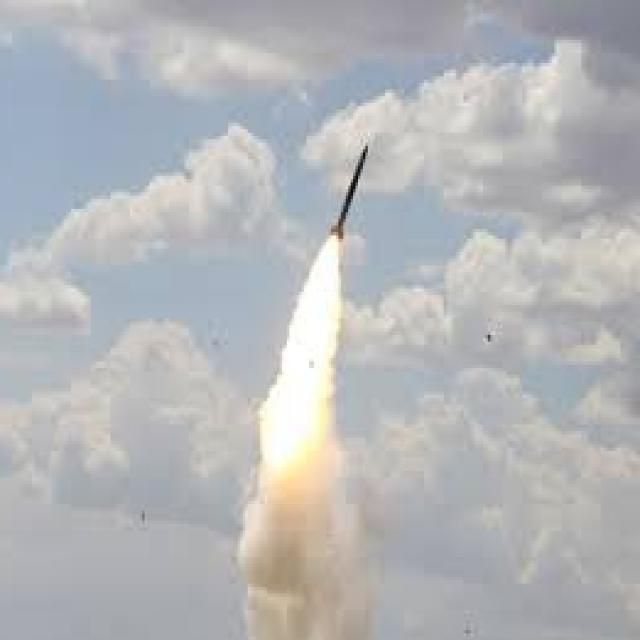missile: (320, 140, 373, 243)
